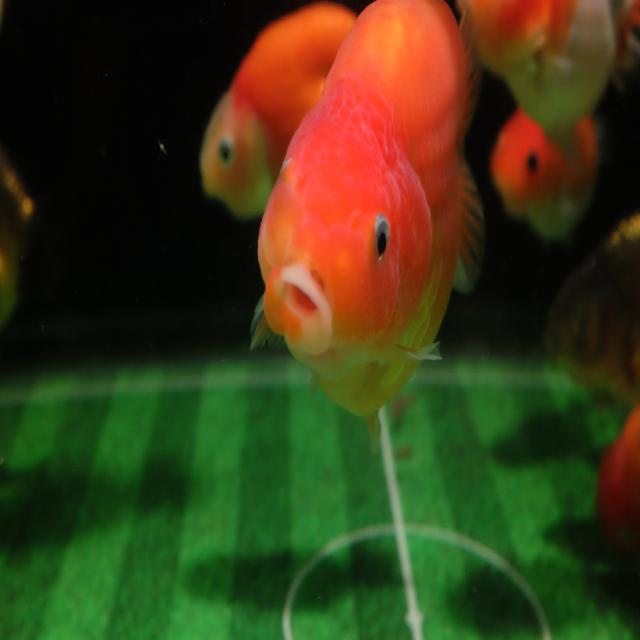Tilapia: (249, 0, 487, 458), (198, 4, 360, 221), (458, 0, 639, 166), (492, 107, 606, 245)
